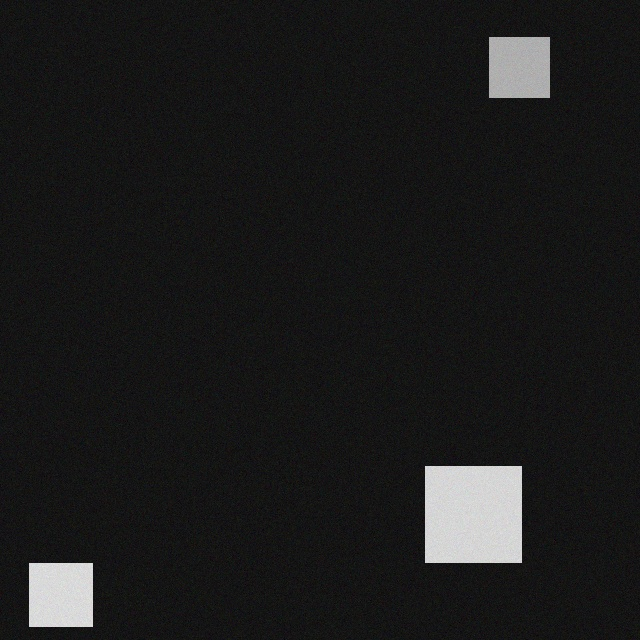square: (436, 455, 532, 551), (40, 552, 103, 615), (500, 26, 560, 86)
